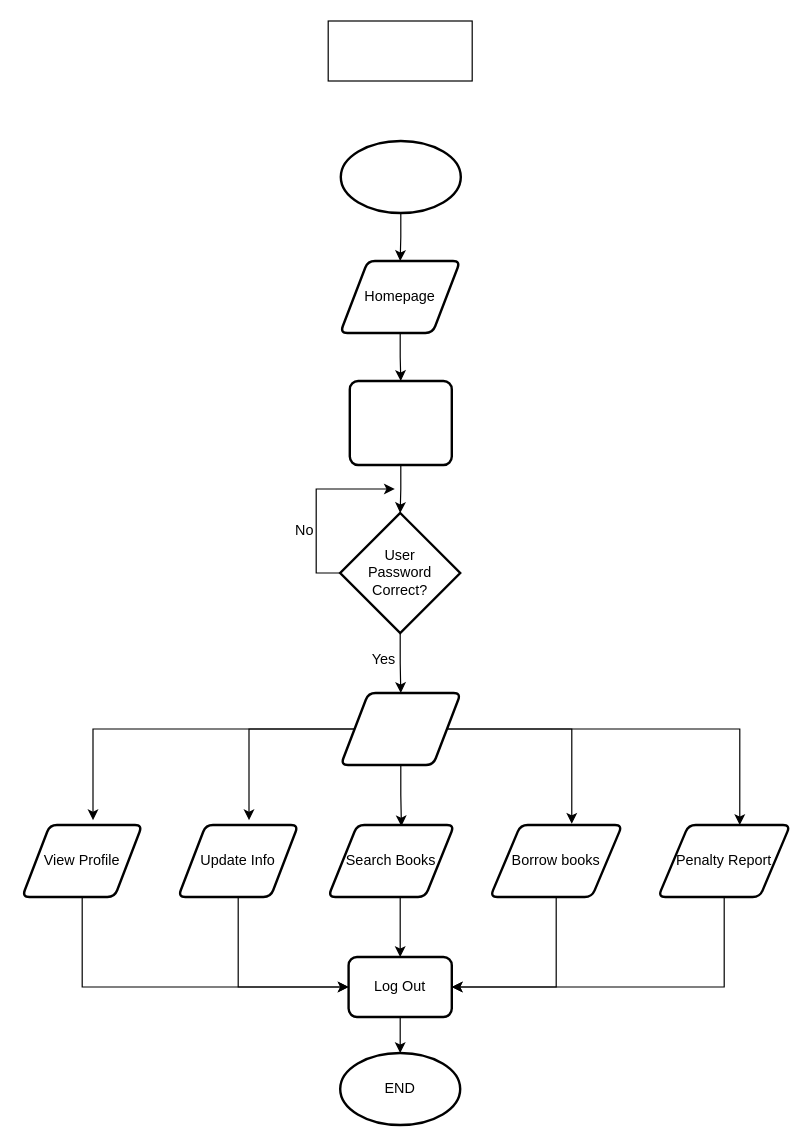
The diagram is 811 pixels wide and 1147 high, and some of its shapes have lost their labels. The shapes that lost their labels are listed below. From the top down, each one's centre as x and y in pixels, then its label:
At pixel 399 50: "Student".
At pixel 400 176: "Start".
At pixel 400 422: "Student Log In".
At pixel 400 728: "System Dashboard".
